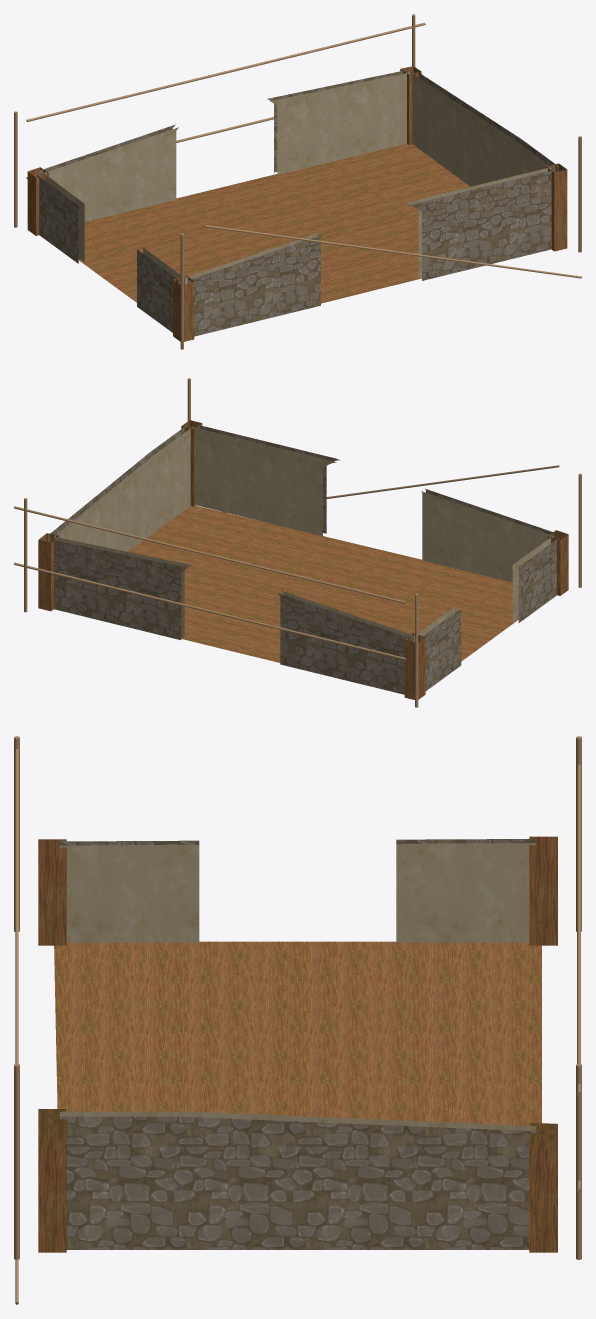
File: Building7Whole_P2.glb
3 views of the same model, one above another, from view 1: azimuth 30°, elevation 25°; view 2: azimuth 150°, elevation 25°; view 3: azimuth 270°, elevation 25° (orthographic). The views are drawn at different scales.
Visible parts, largest first — view 1: Building7Whole_P2; view 2: Building7Whole_P2; view 3: Building7Whole_P2.
Boxes of the visible parts, x1,y1,x2,y2 form: Building7Whole_P2: [14, 14, 581, 349]; Building7Whole_P2: [14, 378, 581, 707]; Building7Whole_P2: [14, 736, 581, 1304].
Bounding box in the file's own units: 13.43 × 4.55 × 9.54.
Materials: 5 (4 with a texture image).
